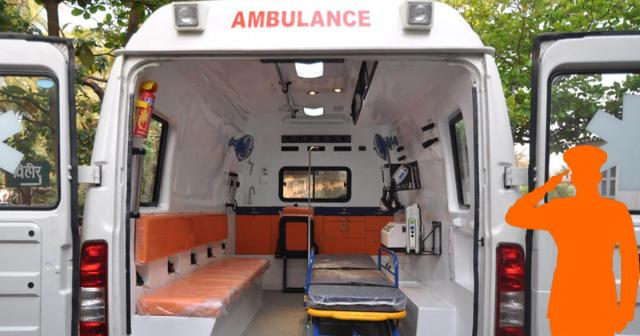ambulance: (0, 1, 640, 336)
